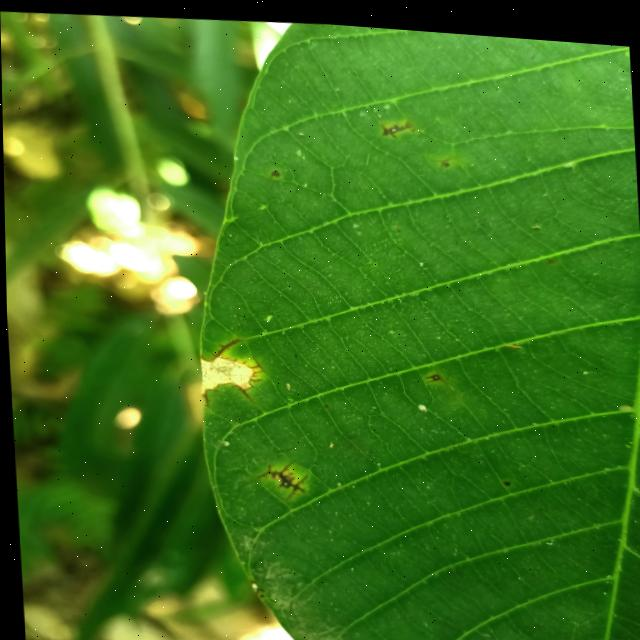Colletotrichum: (502, 473, 508, 478)
Corynespora: (254, 454, 307, 495), (209, 332, 242, 358), (240, 355, 263, 379), (231, 379, 253, 398), (423, 365, 440, 378)
Leaf-Blight: (197, 351, 251, 394)
